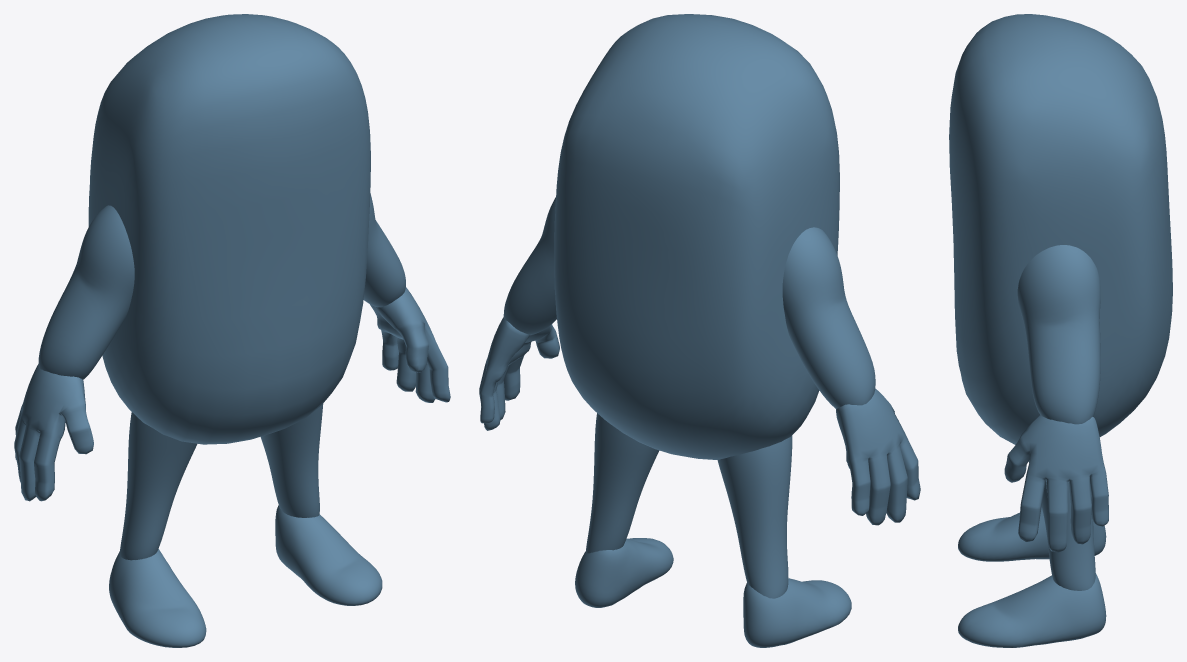
File: BeanJoined.fbx
The picture shows the model from 3 angles, left to right: view 1: azimuth 30°, elevation 25°; view 2: azimuth 150°, elevation 25°; view 3: azimuth 270°, elevation 25°; orthographic projection. The views are drawn at different scales.
Parts seen in each view (by area): view 1: Shin.001, Hand.002, Foot.004, Foot.001, Hand.003; view 2: Shin.001, Hand.002, Foot.004, Foot.001, Hand.003; view 3: Shin.001, Hand.003, Foot.001, Foot.004.
Boxes of the visible parts, x1,y1,x2,y2 form: Shin.001: (38, 14, 405, 560); Hand.002: (14, 364, 93, 501); Foot.004: (109, 549, 206, 647); Foot.001: (275, 505, 382, 605); Hand.003: (370, 287, 450, 402); Shin.001: (503, 14, 875, 598); Hand.002: (836, 388, 920, 525); Foot.004: (743, 578, 851, 647); Foot.001: (575, 538, 673, 607); Hand.003: (479, 317, 559, 430); Shin.001: (949, 14, 1172, 590); Hand.003: (1004, 415, 1108, 552); Foot.001: (958, 573, 1106, 647); Foot.004: (958, 507, 1106, 561).
Size of the model in its own units: 140 by 185 by 66.69.
